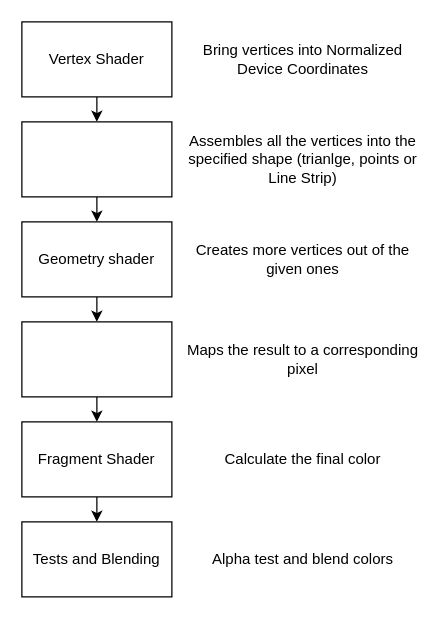
Some shapes in this 444 by 619 pixel diagram are drawn without their labels. The centre of each missing label's shape, as x and y in pixels:
Rasterization: (96,359)
Shape Assembly: (96,159)
